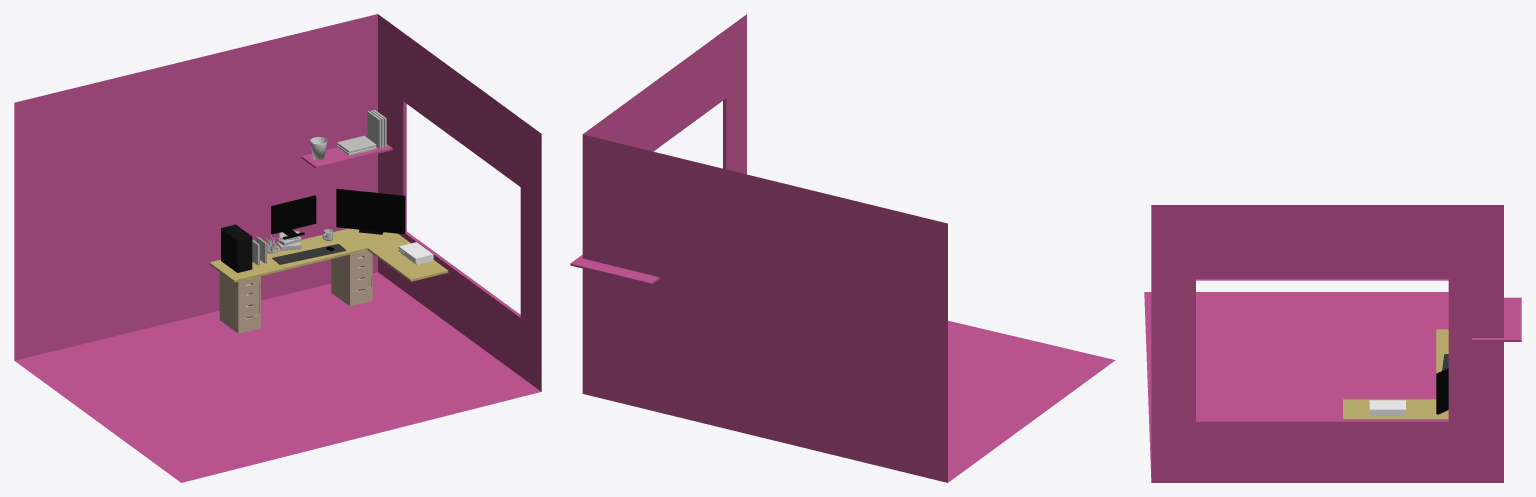
Rendered from room.obj.
3 views of the same model, side by side, from view 1: azimuth 30°, elevation 25°; view 2: azimuth 150°, elevation 25°; view 3: azimuth 270°, elevation 25° (orthographic). The views are drawn at different scales.
Visible parts, largest first — view 1: Wall_Plane, Table_Cube.001, TV_Cube.012, DrawersL_Cube.002, DrawerR_Cube.007, Computer_Monitor_Cube.011, Computer_Cube.005, DnD_Books_Cube.015, MouseMat_Cube.004; view 2: Wall_Plane; view 3: Wall_Plane, Table_Cube.001, Cube_Cube.016, TV_Cube.012.
Boxes of the visible parts, <box> form: Wall_Plane: <box>14,14,541,482</box>; Table_Cube.001: <box>209,228,448,282</box>; TV_Cube.012: <box>336,188,405,234</box>; DrawersL_Cube.002: <box>219,272,260,333</box>; DrawerR_Cube.007: <box>331,250,372,306</box>; Computer_Monitor_Cube.011: <box>271,195,316,239</box>; Computer_Cube.005: <box>221,224,252,272</box>; DnD_Books_Cube.015: <box>337,109,386,155</box>; MouseMat_Cube.004: <box>272,244,346,264</box>; Wall_Plane: <box>570,14,1115,482</box>; Wall_Plane: <box>1144,205,1521,482</box>; Table_Cube.001: <box>1343,329,1448,419</box>; Cube_Cube.016: <box>1369,400,1405,416</box>; TV_Cube.012: <box>1436,368,1448,414</box>.
Bounding box in the file's own units: 6.85 × 4.6 × 5.66.
